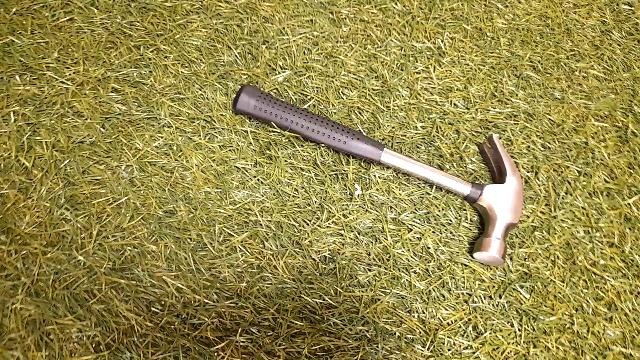hammer: (227, 76, 529, 268)
